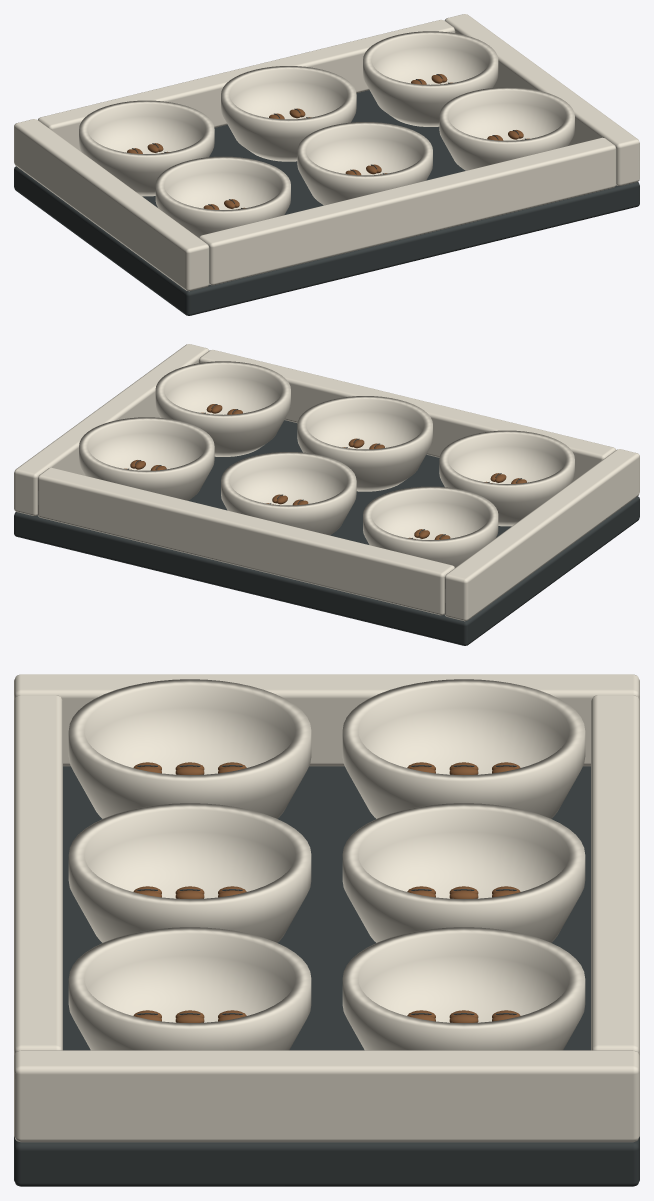
Rendered from coffee-roastery-and-cupping-room-coffee-roastery-and-c-1e946427__32206.glb.
The picture shows the model from 3 angles, top to bottom: view 1: azimuth 30°, elevation 25°; view 2: azimuth 150°, elevation 25°; view 3: azimuth 270°, elevation 25°; orthographic projection. The views are drawn at different scales.
Visible parts, largest first — view 1: coffee-roastery-and-cupping-room-sample-storage-drawer; view 2: coffee-roastery-and-cupping-room-sample-storage-drawer; view 3: coffee-roastery-and-cupping-room-sample-storage-drawer.
Part boxes in pixels (left/top/right/bottom): coffee-roastery-and-cupping-room-sample-storage-drawer: left=14, top=14, right=639, bottom=315; coffee-roastery-and-cupping-room-sample-storage-drawer: left=14, top=344, right=639, bottom=645; coffee-roastery-and-cupping-room-sample-storage-drawer: left=14, top=674, right=639, bottom=1186.
Size of the model in its own units: 0.48 by 0.077 by 0.32.
